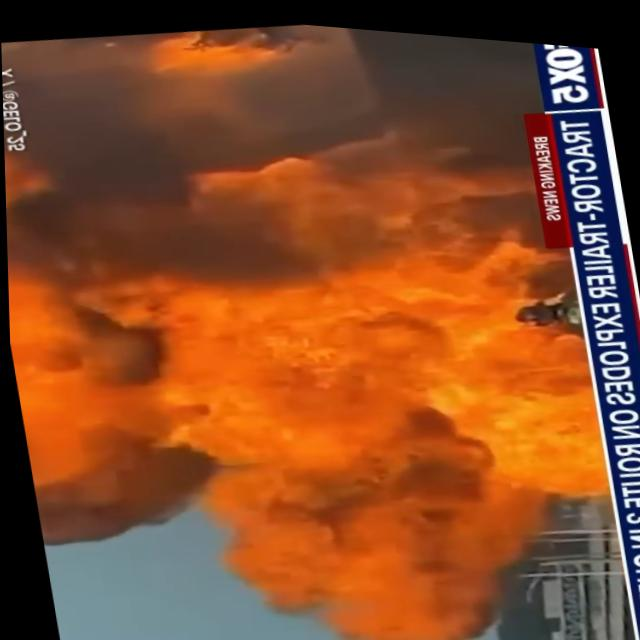Fire: (0, 19, 576, 640)
